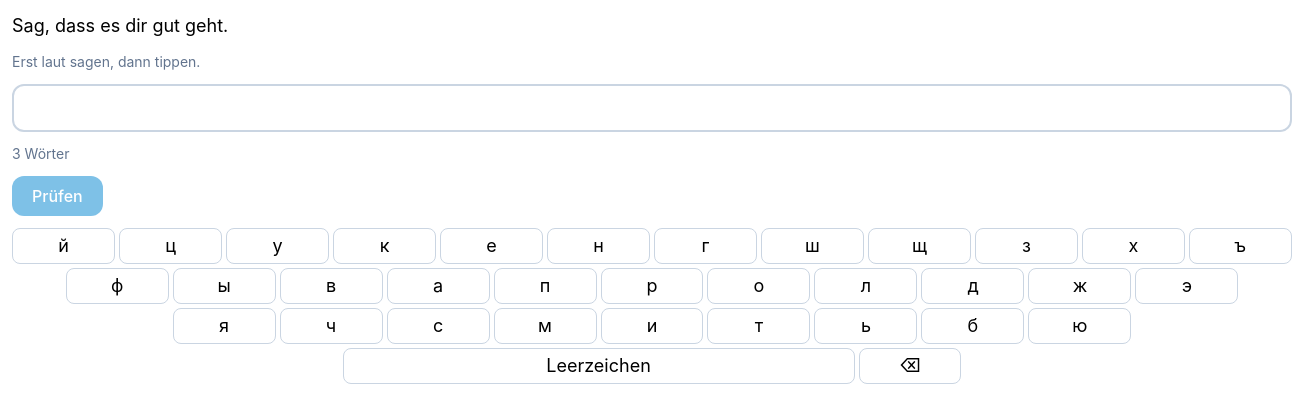
Test: TypeSentenceExercise › schreibt Buchstaben von der Bildschirmtastatur ins Feld
The image size is (1304, 401).
Click the button "п" at coordinates (545, 286), box x1=494 y1=268 x2=596 y2=304
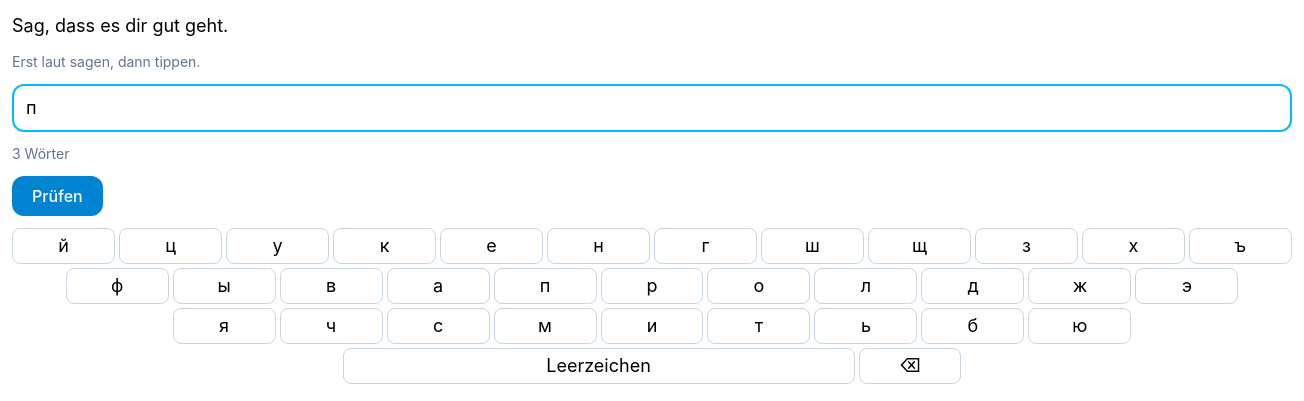
Click the button "о" at coordinates (759, 286), box x1=708 y1=268 x2=810 y2=304
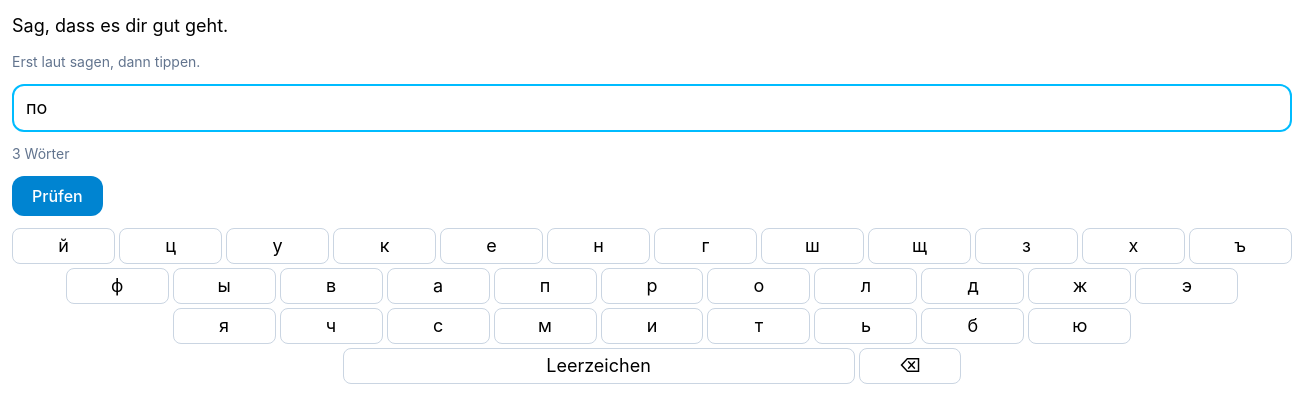
Expected: the field named "Deine Antwort auf Russisch" holds "по", x1=12 y1=84 x2=1292 y2=132
